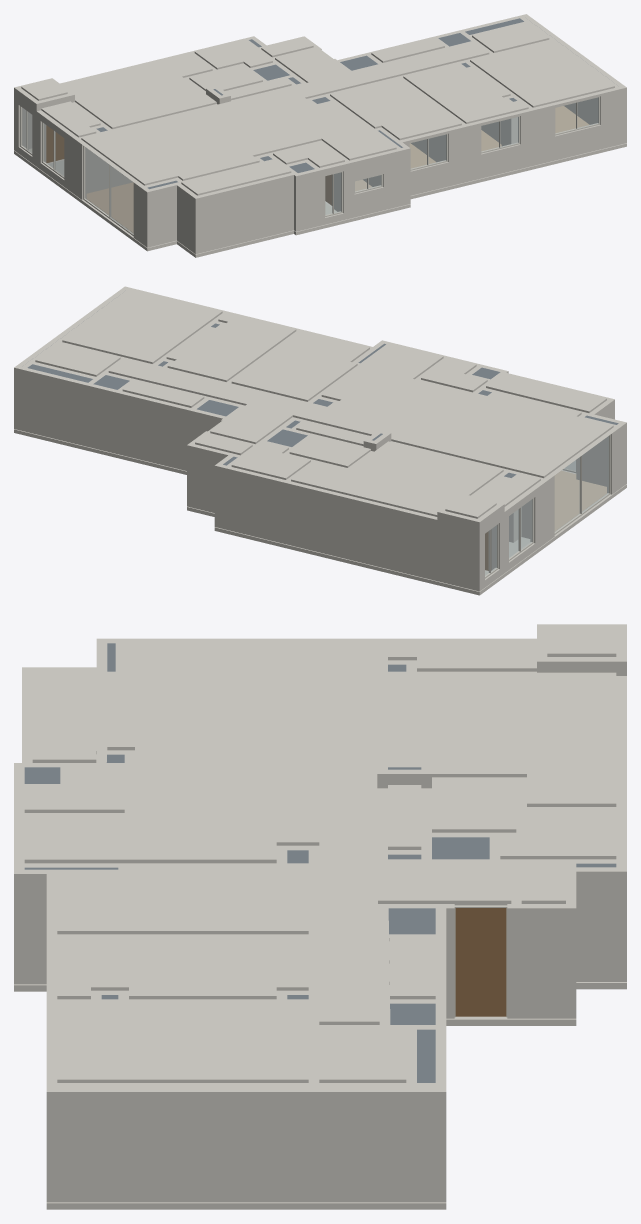
The model's file is acro168d-expanded-archisketch.glb.
3 renders of one model, top to bottom at view 1: azimuth 30°, elevation 25°; view 2: azimuth 150°, elevation 25°; view 3: azimuth 270°, elevation 25°, orthographic. The views are drawn at different scales.
Parts seen in each view (by area): view 1: Ceiling/living-kitchen-hall, Wall/layer-09/00, Ceiling/primary, Wall/layer-01/02, Ceiling/bedroom-03, Ceiling/bedroom-01, Wall/layer-00/01, Ceiling/bedroom-02, Wall/layer-01/01, Base/00, Wall/layer-03/01, Wall/layer-04/01 (+40 smaller); view 2: Ceiling/living-kitchen-hall, Wall/layer-09/00, Ceiling/primary, Ceiling/bedroom-03, Wall/layer-01/03, Ceiling/bedroom-01, Ceiling/bedroom-02, Wall/layer-03/07, Wall/layer-04/06, Wall/layer-01/02, Wall/layer-00/00, Base/00 (+29 smaller); view 3: Ceiling/living-kitchen-hall, Wall/layer-09/00, Ceiling/primary, Ceiling/bedroom-03, Ceiling/bedroom-01, Ceiling/bedroom-02, Wall/layer-01/02, Wall/layer-03/06, Wall/layer-04/05, Wall/layer-00/01, Ceiling/balcony-02, door-00/leaf (+26 smaller).
Boxes of the visible parts, bbox=[...] form: Ceiling/living-kitchen-hall: bbox=[81, 41, 489, 185]; Wall/layer-09/00: bbox=[25, 14, 626, 198]; Ceiling/primary: bbox=[61, 52, 216, 129]; Wall/layer-01/02: bbox=[334, 100, 626, 213]; Ceiling/bedroom-03: bbox=[470, 40, 614, 107]; Ceiling/bedroom-01: bbox=[330, 77, 461, 140]; Wall/layer-00/01: bbox=[133, 104, 626, 254]; Ceiling/bedroom-02: bbox=[403, 63, 528, 123]; Wall/layer-01/01: bbox=[133, 202, 324, 247]; Base/00: bbox=[14, 143, 626, 257]; Wall/layer-03/01: bbox=[133, 188, 324, 229]; Wall/layer-04/01: bbox=[133, 177, 324, 217]; Ceiling/living-kitchen-hall: bbox=[108, 343, 613, 478]; Wall/layer-09/00: bbox=[14, 286, 626, 529]; Ceiling/primary: bbox=[291, 441, 503, 516]; Ceiling/bedroom-03: bbox=[62, 289, 222, 363]; Wall/layer-01/03: bbox=[187, 481, 484, 584]; Ceiling/bedroom-01: bbox=[231, 330, 369, 401]; Ceiling/bedroom-02: bbox=[166, 312, 296, 381]; Wall/layer-03/07: bbox=[187, 466, 484, 564]; Wall/layer-04/06: bbox=[187, 454, 484, 551]; Wall/layer-01/02: bbox=[14, 403, 186, 463]; Wall/layer-00/00: bbox=[187, 499, 554, 591]; Base/00: bbox=[14, 429, 626, 595]; Ceiling/living-kitchen-hall: bbox=[24, 640, 511, 1024]; Wall/layer-09/00: bbox=[14, 638, 626, 1092]; Ceiling/primary: bbox=[388, 672, 616, 806]; Ceiling/bedroom-03: bbox=[57, 1000, 308, 1082]; Ceiling/bedroom-01: bbox=[57, 864, 308, 934]; Ceiling/bedroom-02: bbox=[57, 935, 308, 999]; Wall/layer-01/02: bbox=[14, 939, 454, 1189]; Wall/layer-03/06: bbox=[46, 946, 454, 1154]; Wall/layer-04/05: bbox=[46, 923, 454, 1129]; Wall/layer-00/01: bbox=[14, 971, 454, 1202]; Ceiling/balcony-02: bbox=[32, 668, 96, 762]; door-00/leaf: bbox=[455, 908, 506, 1016].
Bounding box in the file's own units: 20.27 × 2.82 × 11.58.
